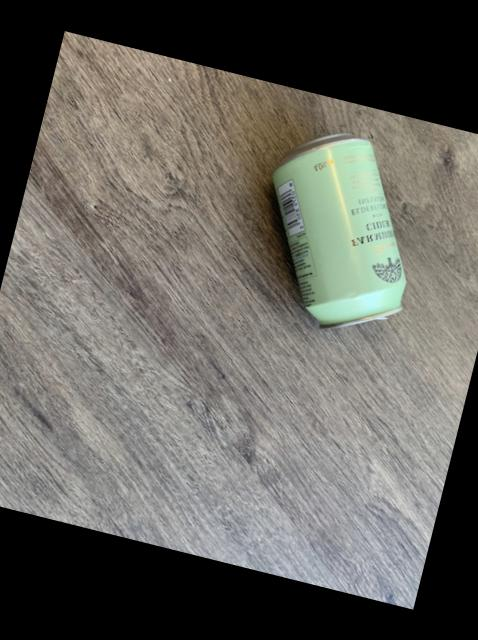metal: (275, 134, 407, 327)
